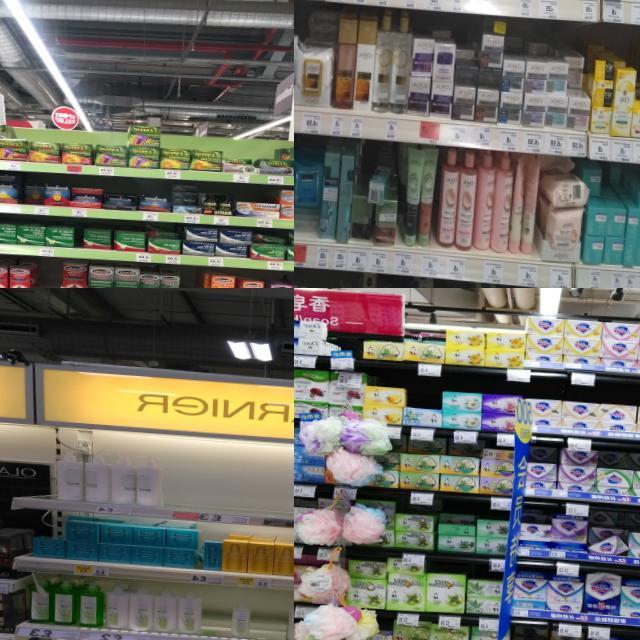Imprecise: (404, 438, 484, 490), (588, 160, 626, 265), (360, 168, 406, 246), (298, 10, 334, 104), (596, 447, 640, 505), (448, 50, 483, 122), (560, 54, 592, 129), (586, 509, 630, 562), (296, 160, 324, 235), (518, 510, 555, 559), (436, 511, 479, 553), (527, 444, 559, 498), (150, 226, 180, 263), (174, 180, 202, 213), (18, 178, 44, 206)
